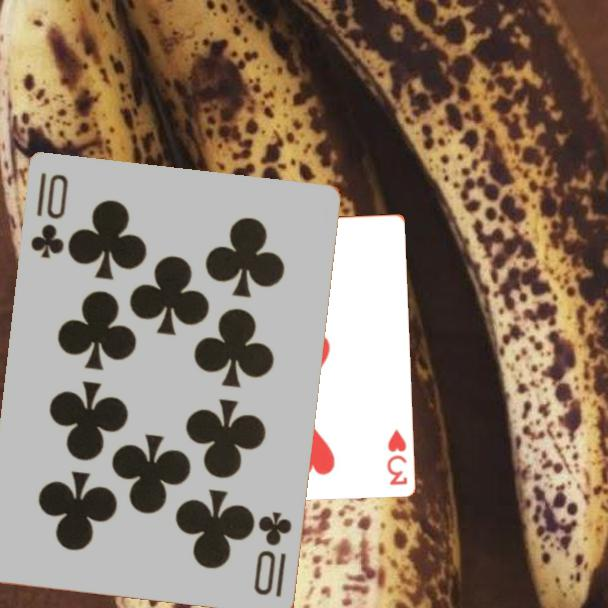c10: (251, 508, 295, 601), (27, 170, 71, 262)
h03: (383, 425, 410, 488)
